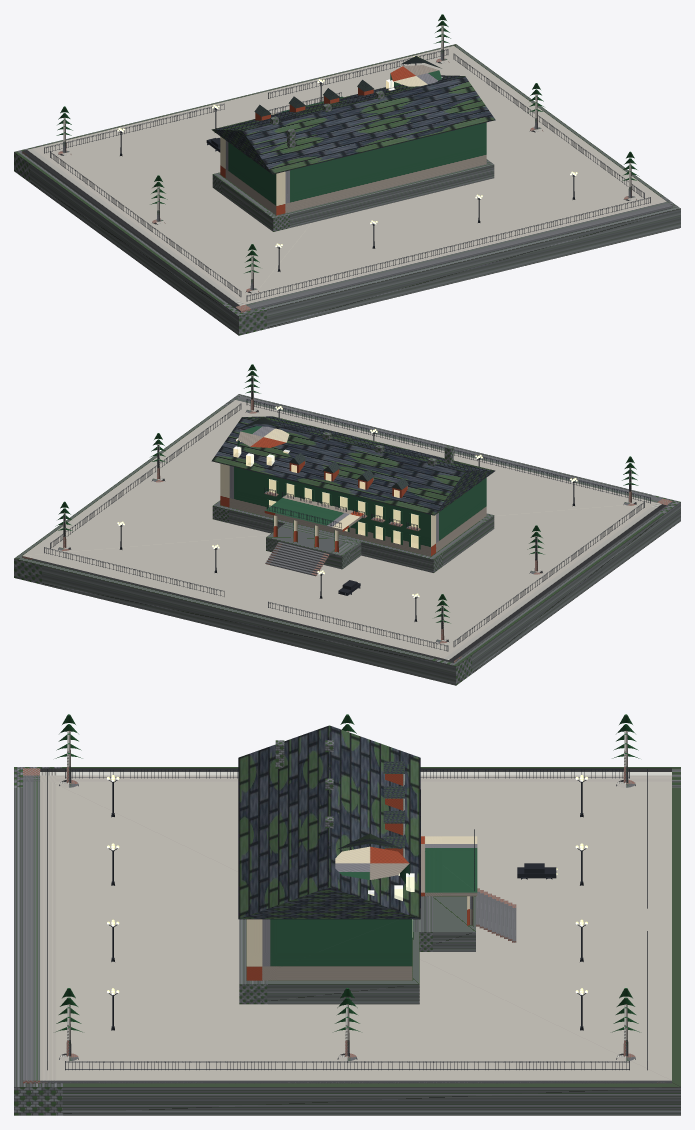
File: ultra_lm_35_dinh_tinh_truong.glb
3 views of the same model, one above another, from view 1: azimuth 30°, elevation 25°; view 2: azimuth 150°, elevation 25°; view 3: azimuth 270°, elevation 25° (orthographic). The views are drawn at different scales.
Parts seen in each view (by area): view 1: DinhTinhTruong1910_PorteCochere_GraniteSteps_And_WormBrick, DinhTinhTruong1910_SplitGranite_Basement_Chimneys_And_Skirt, DinhTinhTruong1910_French_Slate_Roofs_And_BelvedereDome, DinhTinhTruong1910_Neoclassical_Ivory_Walls_And_Belvedere, DinhTinhTruong1910_3DWroughtIron_Balconies_And_Streetlamps, DinhTinhTruong1910_CenturyOld_Pine_Grove; view 2: DinhTinhTruong1910_PorteCochere_GraniteSteps_And_WormBrick, DinhTinhTruong1910_SplitGranite_Basement_Chimneys_And_Skirt, DinhTinhTruong1910_French_Slate_Roofs_And_BelvedereDome, DinhTinhTruong1910_Neoclassical_Ivory_Walls_And_Belvedere, DinhTinhTruong1910_3DWroughtIron_Balconies_And_Streetlamps, GovernorSalon_FrenchWindow_Blend085, DinhTinhTruong1910_CenturyOld_Pine_Grove, DinhTinhTruong1910_Wooden_Louver_Shutters; view 3: DinhTinhTruong1910_PorteCochere_GraniteSteps_And_WormBrick, DinhTinhTruong1910_SplitGranite_Basement_Chimneys_And_Skirt, DinhTinhTruong1910_French_Slate_Roofs_And_BelvedereDome, DinhTinhTruong1910_Neoclassical_Ivory_Walls_And_Belvedere, DinhTinhTruong1910_3DWroughtIron_Balconies_And_Streetlamps, DinhTinhTruong1910_CenturyOld_Pine_Grove.
Boxes of the visible parts, left/top/right/bottom form: DinhTinhTruong1910_PorteCochere_GraniteSteps_And_WormBrick: left=22, top=25, right=672, bottom=312; DinhTinhTruong1910_SplitGranite_Basement_Chimneys_And_Skirt: left=14, top=44, right=680, bottom=335; DinhTinhTruong1910_French_Slate_Roofs_And_BelvedereDome: left=211, top=56, right=495, bottom=174; DinhTinhTruong1910_Neoclassical_Ivory_Walls_And_Belvedere: left=220, top=65, right=486, bottom=215; DinhTinhTruong1910_3DWroughtIron_Balconies_And_Streetlamps: left=44, top=49, right=650, bottom=301; DinhTinhTruong1910_CenturyOld_Pine_Grove: left=56, top=14, right=639, bottom=273; DinhTinhTruong1910_PorteCochere_GraniteSteps_And_WormBrick: left=22, top=375, right=672, bottom=662; DinhTinhTruong1910_SplitGranite_Basement_Chimneys_And_Skirt: left=14, top=394, right=680, bottom=685; DinhTinhTruong1910_French_Slate_Roofs_And_BelvedereDome: left=211, top=416, right=495, bottom=515; DinhTinhTruong1910_Neoclassical_Ivory_Walls_And_Belvedere: left=220, top=426, right=486, bottom=556; DinhTinhTruong1910_3DWroughtIron_Balconies_And_Streetlamps: left=44, top=399, right=650, bottom=651; GovernorSalon_FrenchWindow_Blend085: left=233, top=438, right=418, bottom=548; DinhTinhTruong1910_CenturyOld_Pine_Grove: left=55, top=364, right=638, bottom=623; DinhTinhTruong1910_Wooden_Louver_Shutters: left=266, top=478, right=420, bottom=549; DinhTinhTruong1910_PorteCochere_GraniteSteps_And_WormBrick: left=23, top=731, right=671, bottom=1083; DinhTinhTruong1910_SplitGranite_Basement_Chimneys_And_Skirt: left=14, top=740, right=680, bottom=1115; DinhTinhTruong1910_French_Slate_Roofs_And_BelvedereDome: left=238, top=725, right=420, bottom=919; DinhTinhTruong1910_Neoclassical_Ivory_Walls_And_Belvedere: left=246, top=774, right=477, bottom=980; DinhTinhTruong1910_3DWroughtIron_Balconies_And_Streetlamps: left=47, top=769, right=647, bottom=1070; DinhTinhTruong1910_CenturyOld_Pine_Grove: left=55, top=714, right=639, bottom=1032.
Bounding box in the file's own units: 84 × 21.7 × 74.
Materials: 10 (4 with a texture image).
